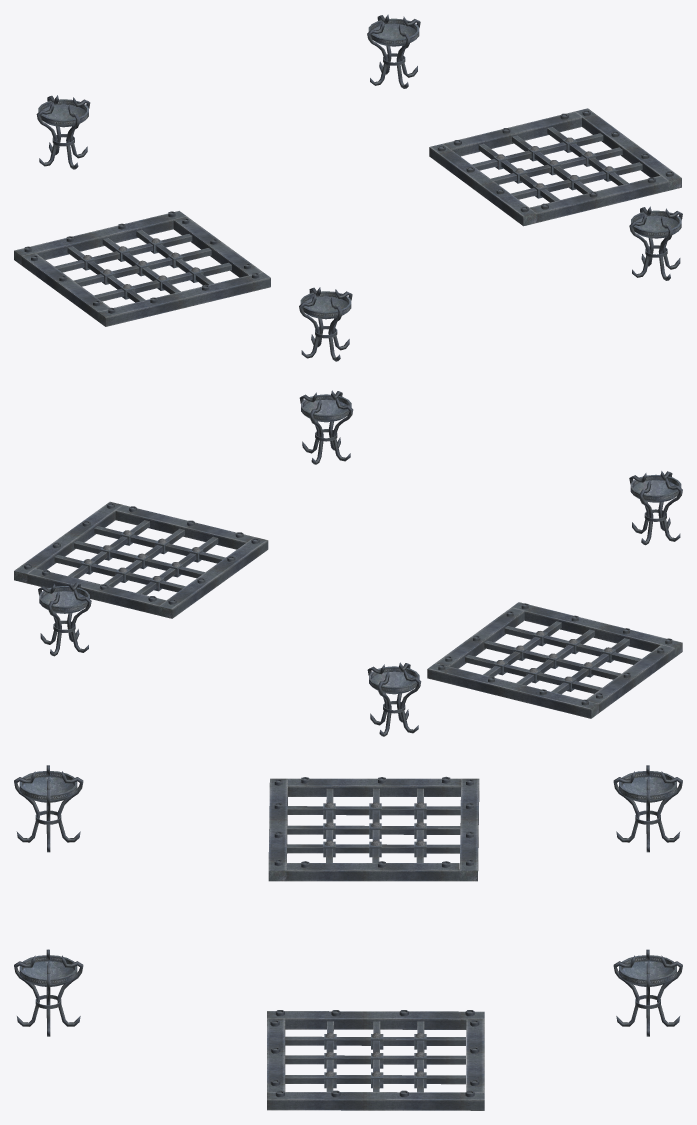
Rendered from Atlas2_MDL.fbx.
The picture shows the model from 3 angles, top to bottom: view 1: azimuth 30°, elevation 25°; view 2: azimuth 150°, elevation 25°; view 3: azimuth 270°, elevation 25°; orthographic projection. The views are drawn at different scales.
Visible parts, largest first — view 1: TunnelBigDoorway.015; view 2: TunnelBigDoorway.015; view 3: TunnelBigDoorway.015.
Part boxes in pixels (box(x1,y1,x2,y2)): TunnelBigDoorway.015: box(14, 14, 682, 361); TunnelBigDoorway.015: box(14, 390, 682, 736); TunnelBigDoorway.015: box(14, 765, 682, 1110).
Size of the model in its own units: 1395 by 178 by 1227.
